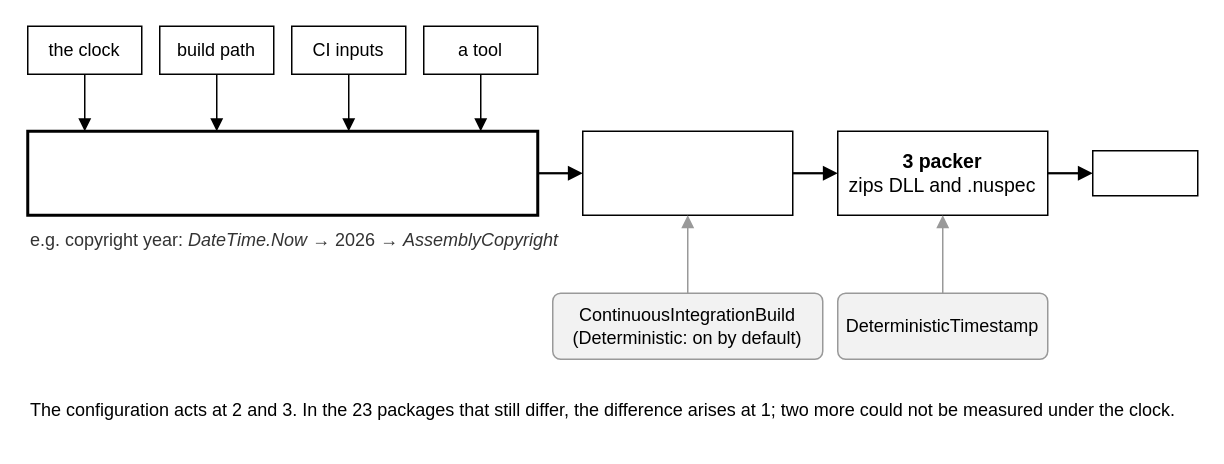
The diagram is 1224 pixels wide and 464 high, and some of its shapes have lost their labels. The shapes that lost their labels are listed below. From the top down, each one's centre as x and y in pixels, then its label:
At pixel 282 172: "1 project build logic computes version, attributes, file list and paths".
At pixel 687 172: "2 compiler writes the DLL".
At pixel 1144 172: ".nupkg".
